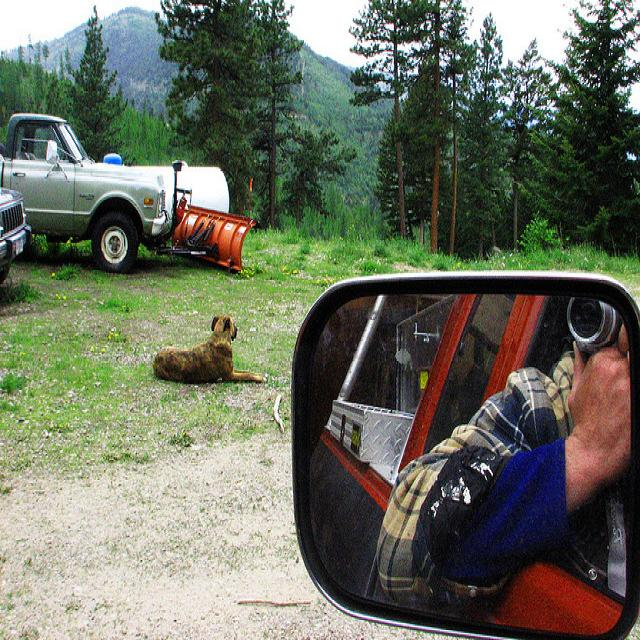Vehicle: (0, 109, 170, 273), (0, 188, 29, 286), (1, 191, 23, 284)
